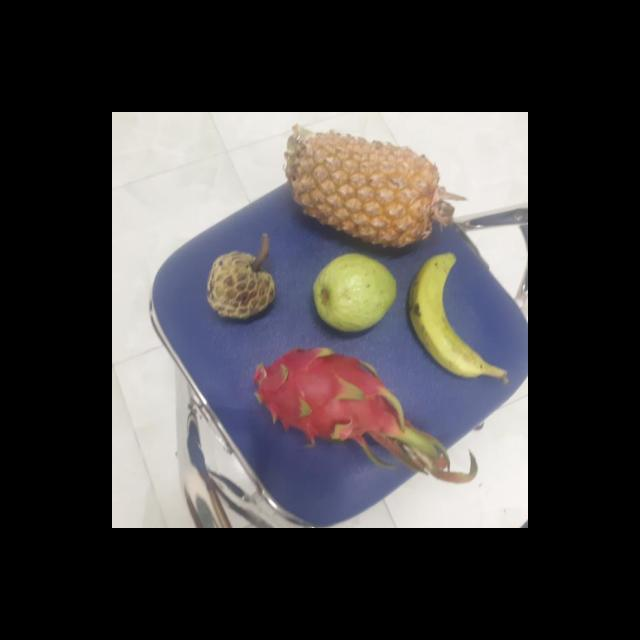Sakya fruit: (203, 248, 275, 322)
banana: (406, 254, 490, 382)
guava: (310, 255, 395, 332)
pineapple: (285, 134, 440, 249)
pitaya: (246, 346, 399, 442)
